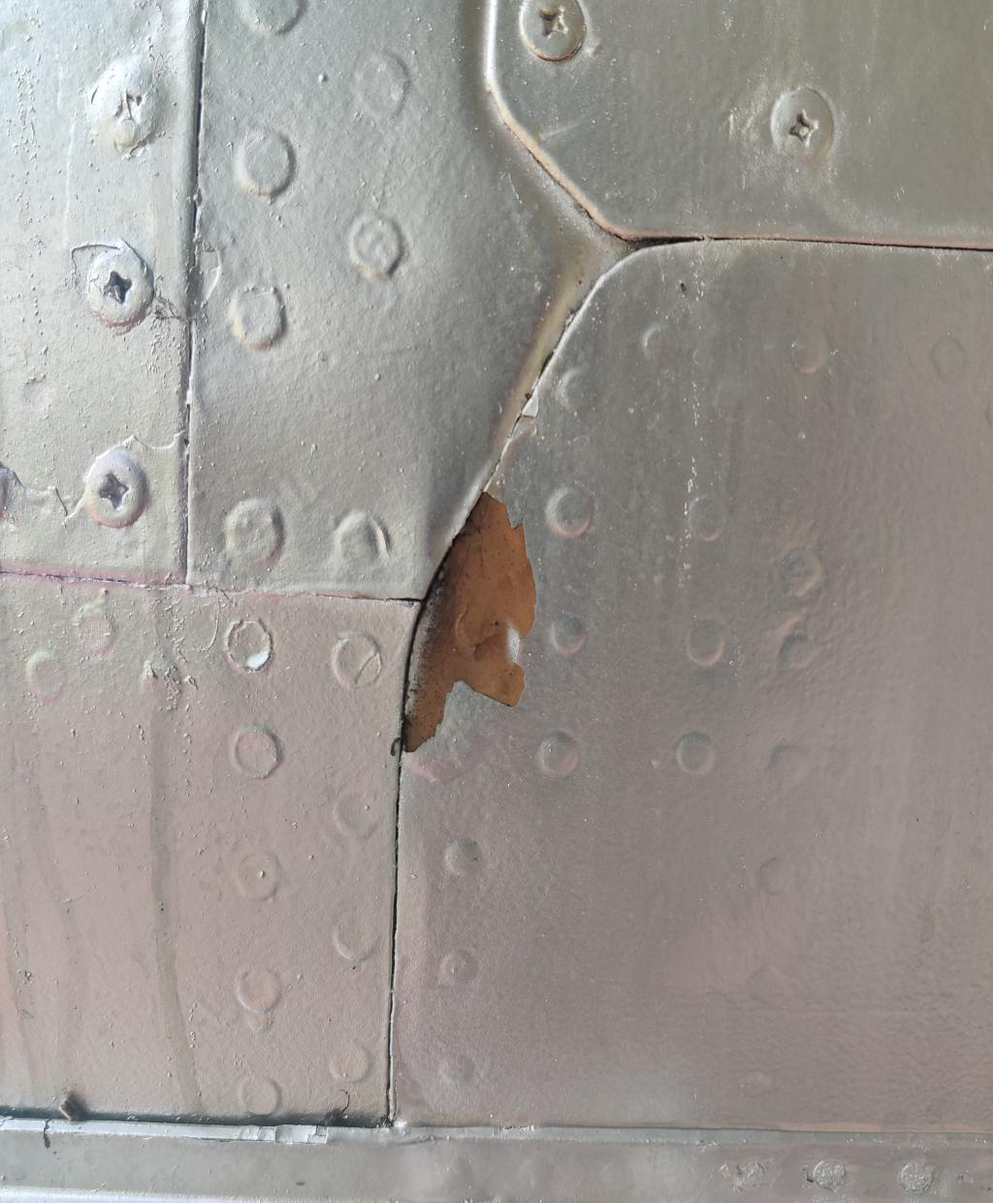corrosion: (392, 489, 540, 752)
